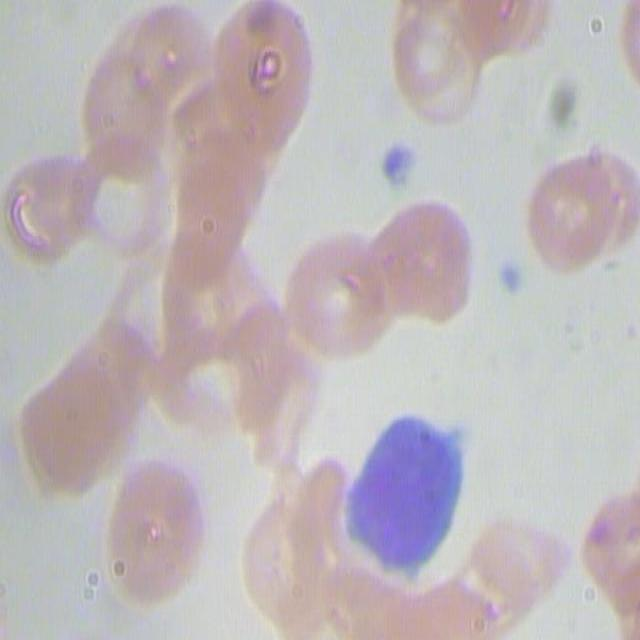RBC: (358, 200, 484, 329), (339, 555, 521, 640), (18, 364, 129, 491), (213, 0, 314, 139), (236, 495, 339, 627), (284, 219, 385, 353), (170, 92, 278, 214), (170, 219, 268, 351), (70, 144, 177, 263), (83, 57, 181, 177), (389, 3, 489, 120), (158, 341, 268, 445), (107, 243, 195, 371), (537, 163, 634, 275), (122, 4, 224, 109), (8, 155, 94, 270), (245, 344, 319, 476), (474, 504, 561, 612), (109, 493, 194, 593), (435, 0, 556, 70), (584, 492, 640, 640), (615, 0, 640, 120)
WBC: (348, 401, 468, 570)
platelets: (380, 136, 417, 198), (502, 258, 529, 303)
